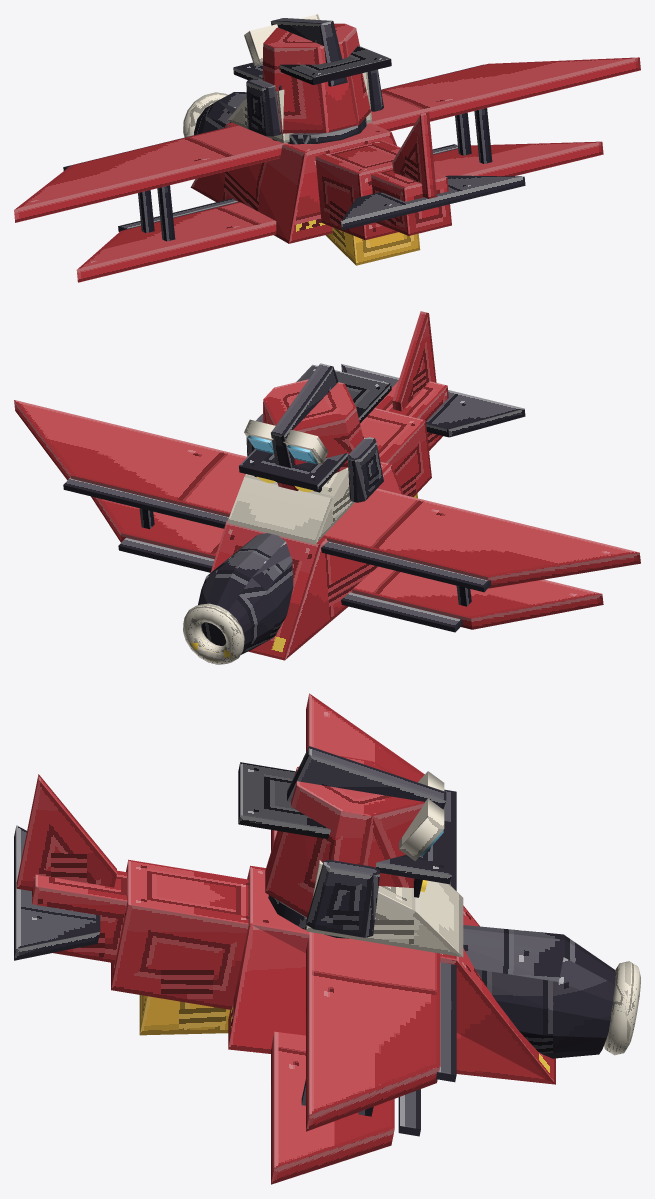
The model's file is bda-baron.glb.
The picture shows the model from 3 angles, top to bottom: view 1: azimuth 30°, elevation 25°; view 2: azimuth 150°, elevation 25°; view 3: azimuth 270°, elevation 25°; orthographic projection. The views are drawn at different scales.
Parts seen in each view (by area): view 1: baron-22, object 2; view 2: baron-22, object 2; view 3: baron-22, object 4.
Boxes of the visible parts, x1=… form: baron-22: x1=14, y1=18, x2=640, y2=282; object 2: x1=244, y1=24, x2=278, y2=66; baron-22: x1=14, y1=311, x2=640, y2=664; object 2: x1=283, y1=429, x2=328, y2=464; baron-22: x1=14, y1=693, x2=640, y2=1184; object 4: x1=399, y1=798, x2=444, y2=860.
Bounding box in the file's own units: 3.19 × 1.07 × 2.
Materials: 33 (32 with a texture image).
